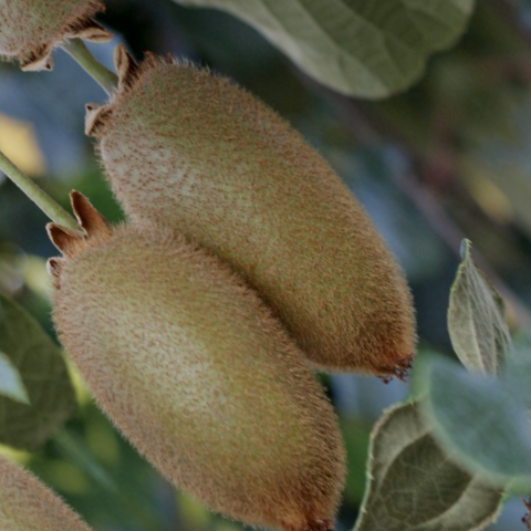kiwi: (37, 0, 484, 443), (0, 142, 420, 531)
